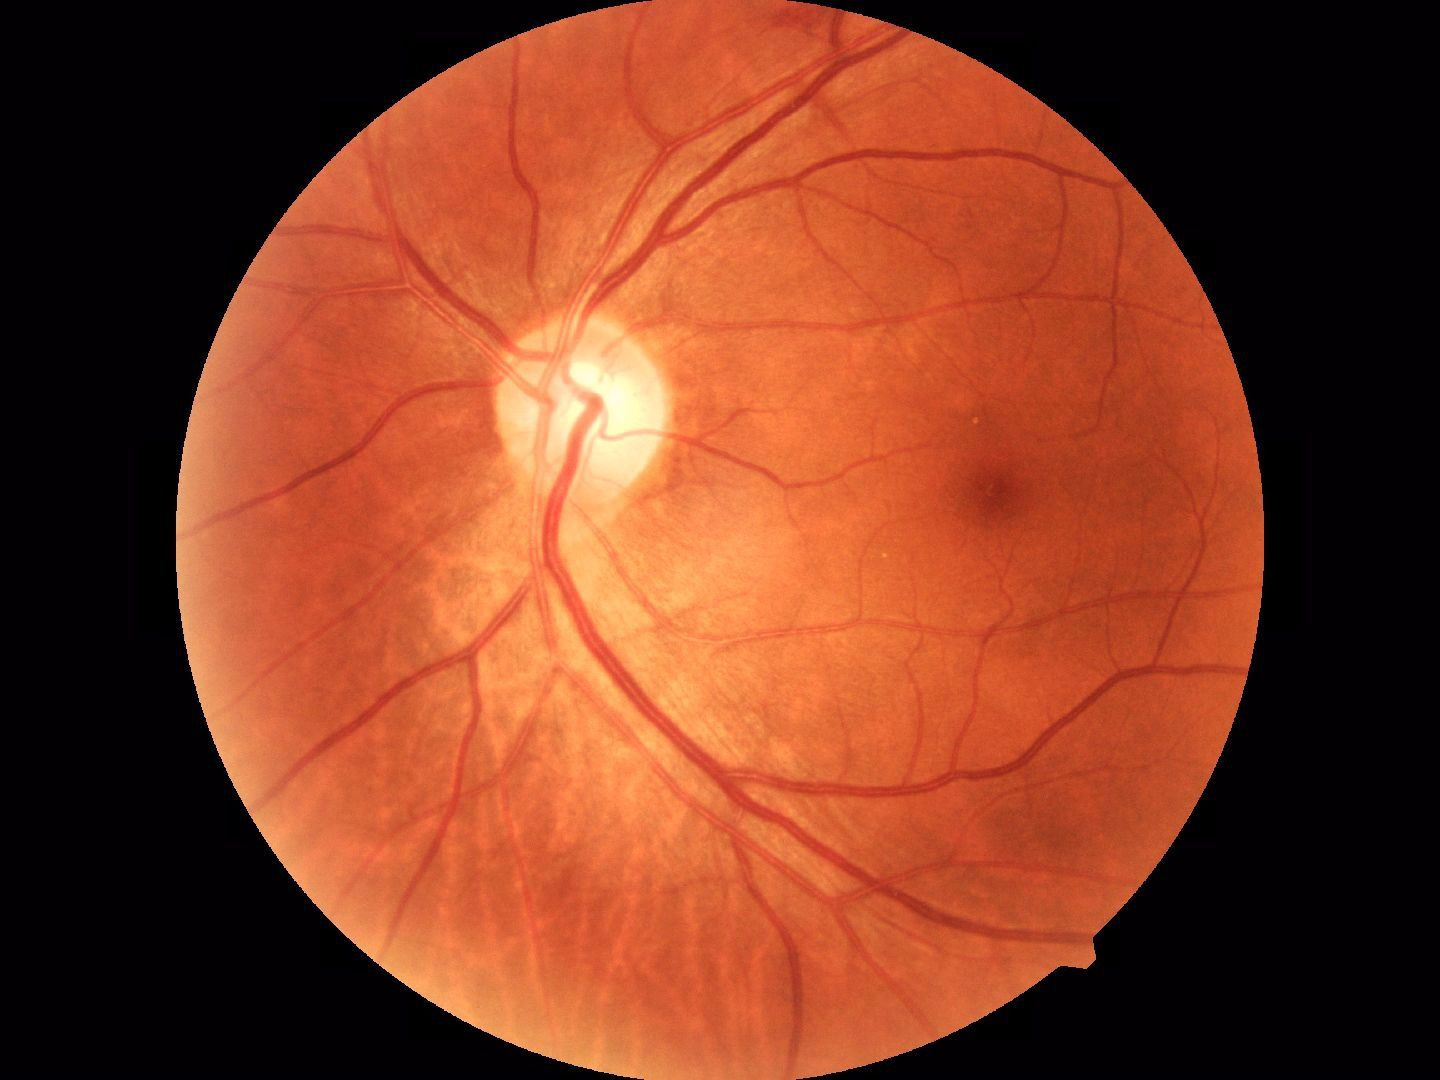Arterioles: (1014, 143, 1130, 420), (880, 594, 1039, 722)
Hemorrhages: (937, 431, 1098, 558)
Optic-Disc: (484, 324, 674, 503)
Venules: (617, 669, 841, 866), (617, 85, 872, 242)
